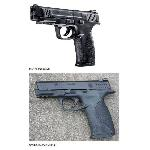Pistol: (34, 78, 116, 140), (26, 1, 100, 66)
